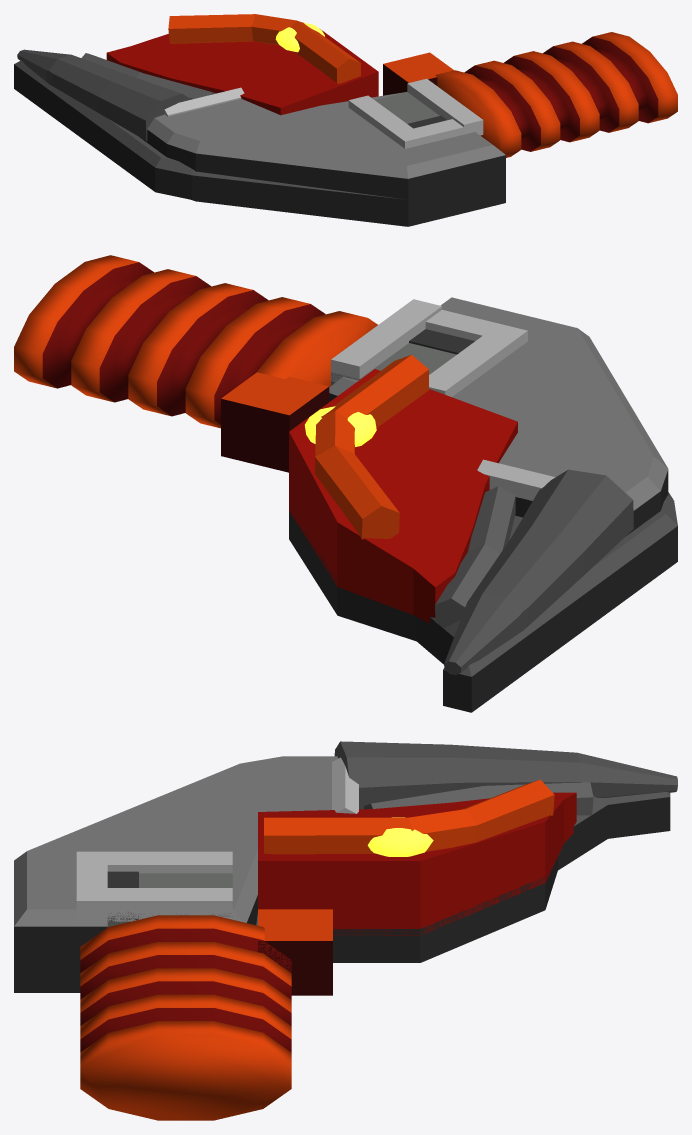
The model's file is newshk-238.glb.
The picture shows the model from 3 angles, top to bottom: view 1: azimuth 30°, elevation 25°; view 2: azimuth 150°, elevation 25°; view 3: azimuth 270°, elevation 25°; orthographic projection. The views are drawn at different scales.
Parts seen in each view (by area): view 1: newshk-238; view 2: newshk-238; view 3: newshk-238.
Part boxes in pixels (x1,y1,x2,y2): newshk-238: (14, 14, 677, 226); newshk-238: (14, 255, 677, 712); newshk-238: (14, 741, 677, 1120).
Bounding box in the file's own units: 1.92 × 0.3833 × 1.77.
